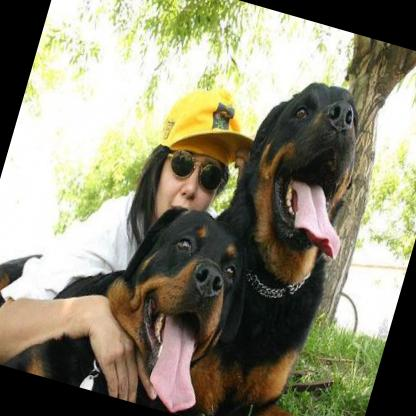Rottweiler: (171, 65, 416, 416), (0, 156, 253, 416)
